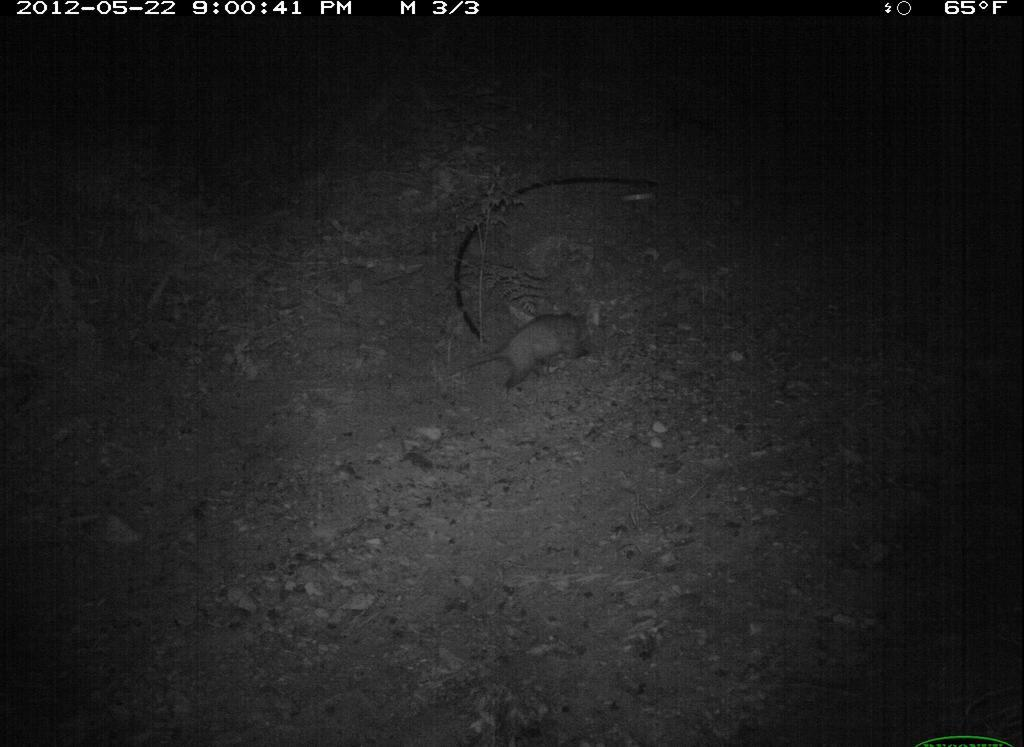opossum: (411, 283, 612, 402)
